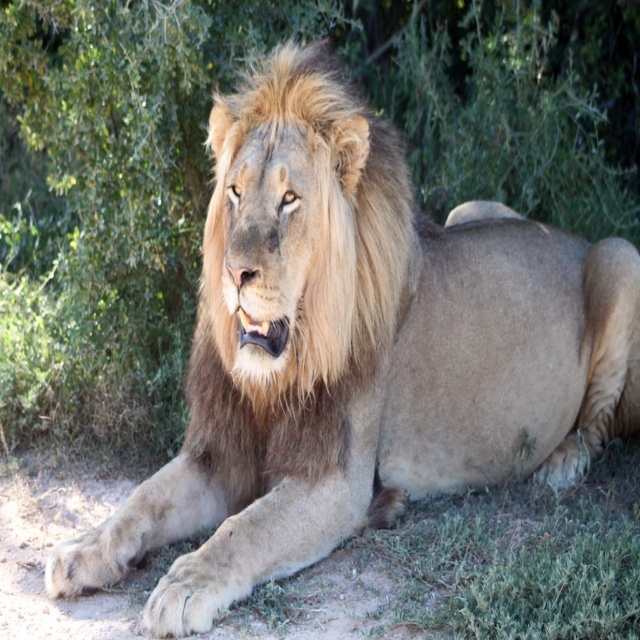Lion: (45, 35, 640, 638)
